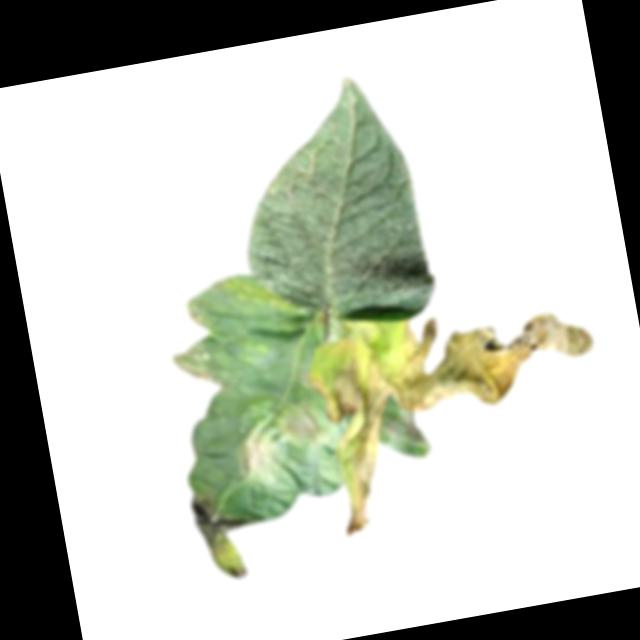Late_blight: (302, 285, 620, 540), (216, 68, 440, 345), (185, 485, 263, 586), (235, 427, 284, 492), (277, 397, 326, 457), (167, 340, 219, 392), (181, 295, 209, 336)
